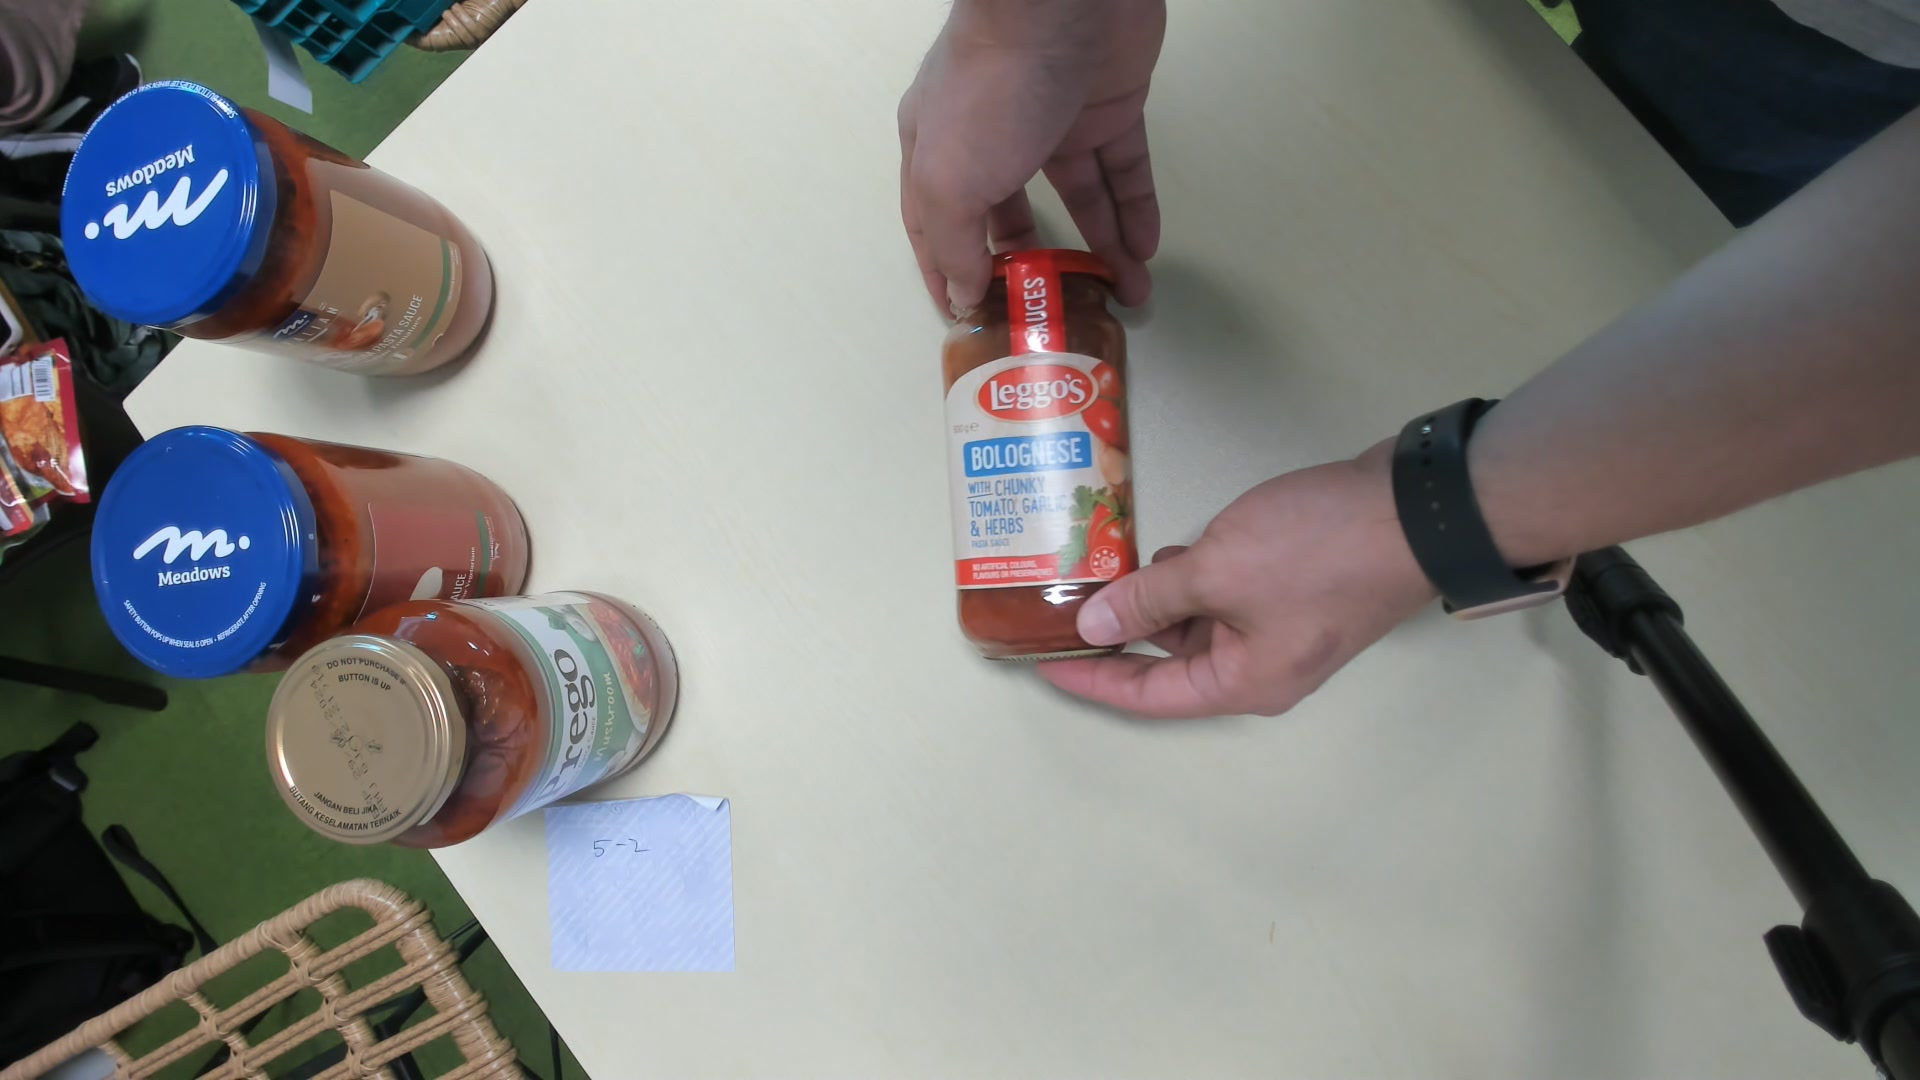PastaSauce_500-599g_Halal_NonHealthy: (938, 241, 1145, 659)
